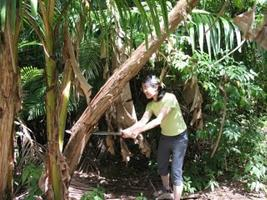person: (120, 75, 188, 200)
